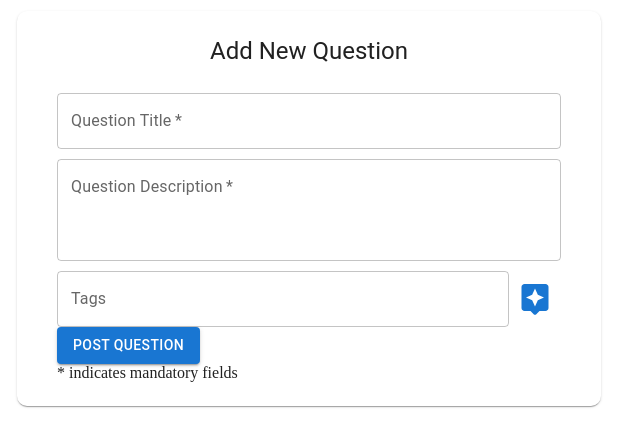
Test case: NewQuestion Component › Click without filling tag
The width and height of the screenshot is (619, 425).
Type "Trial Title" into the field with id "title" at point(309, 121), box [57, 93, 561, 149]
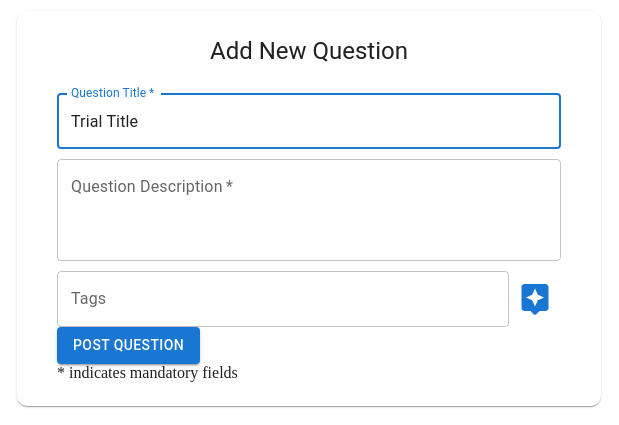
Type "Trial Desc" into the text box with id "description" at point(309, 211), box [71, 176, 547, 245]
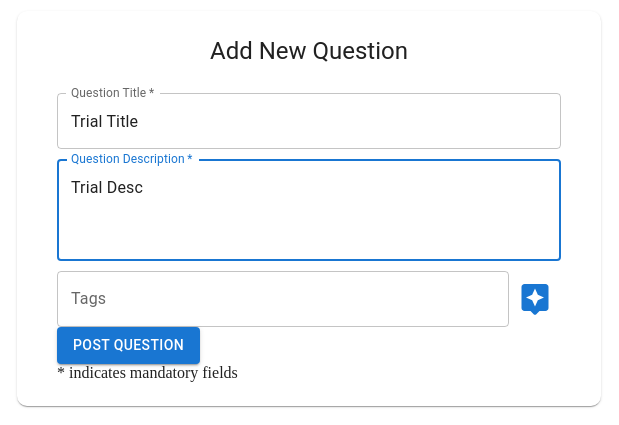
Click the button "Post Question" at point(129, 346), box [57, 327, 200, 364]
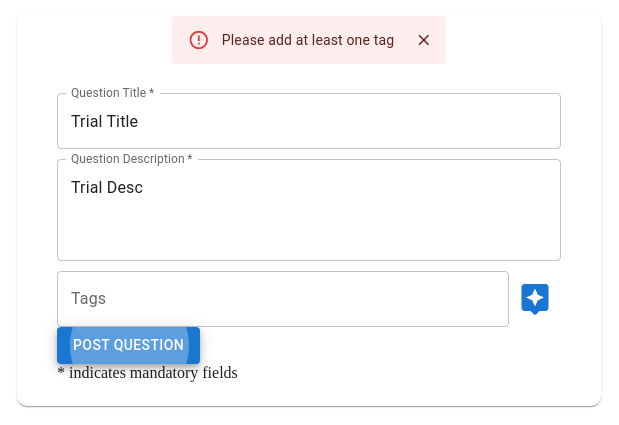
Expected: the text "Please add at least one tag" is shown, [222, 32, 394, 48]
